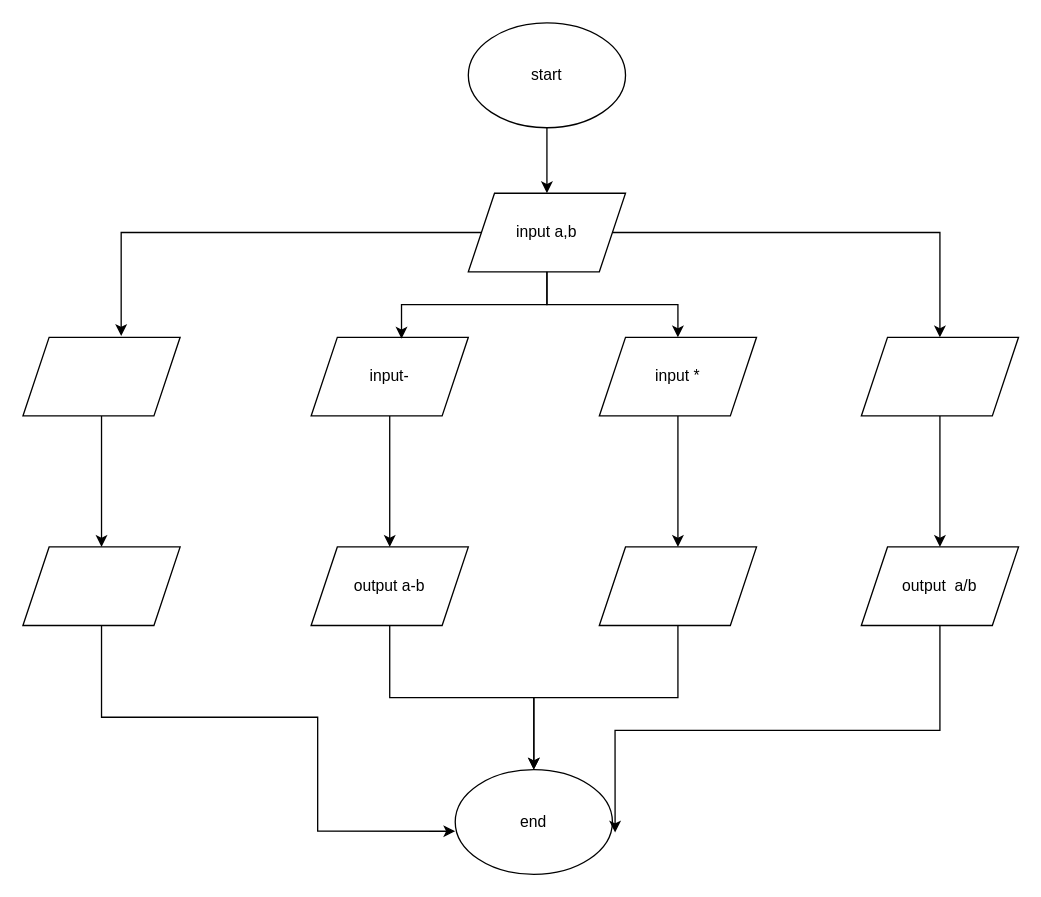
Image size: 1041x897. Some labels were removed from this diagram. Each missing label, with the centre of its shape:
"input +" belongs at point 101,376.
"input /" belongs at point 939,376.
"output a*b" belongs at point 677,586.
"output a+b" belongs at point 101,586.
